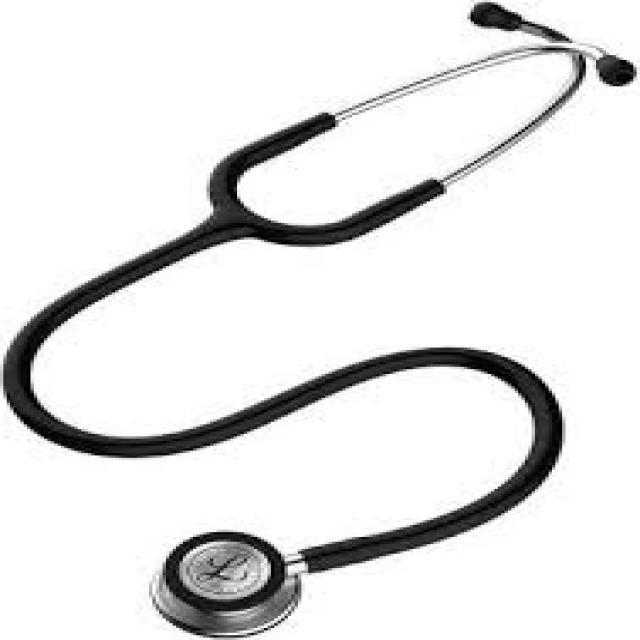stethoscope: (56, 7, 630, 631)
